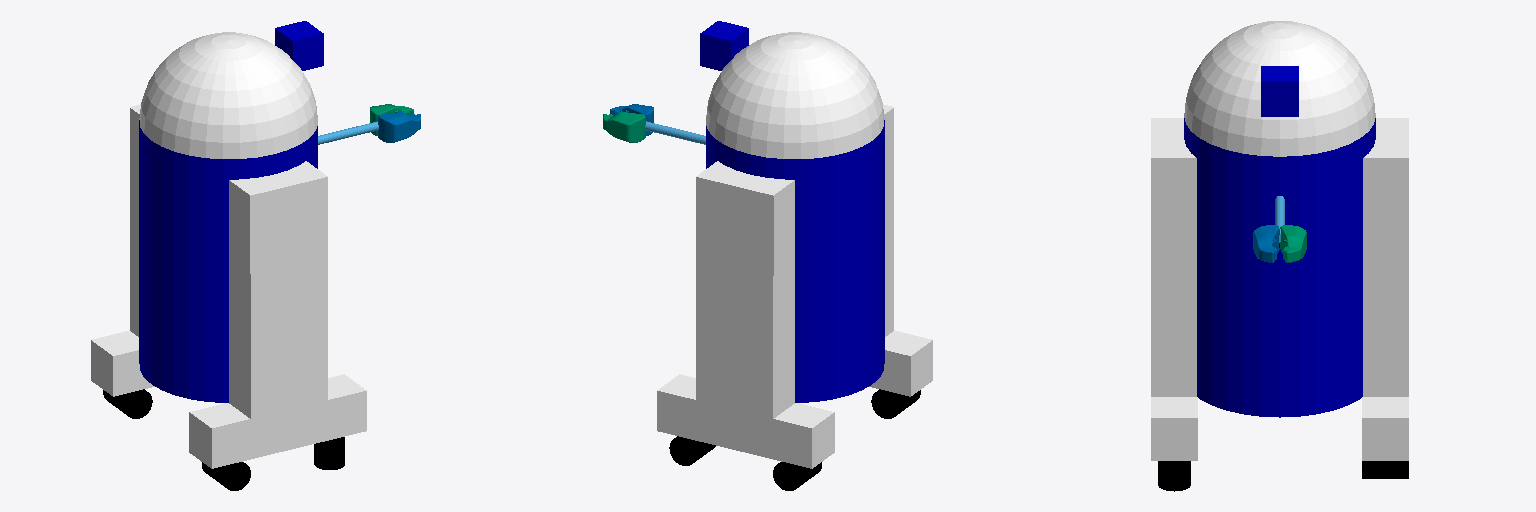
URDF robot description (visual):
<?xml version="1.0"?>
<robot name="visual">

  <material name="blue">
    <color rgba="0 0 0.8 1"/>
  </material>
  <material name="black">
    <color rgba="0 0 0 1"/>
  </material>
  <material name="white">
    <color rgba="1 1 1 1"/>
  </material>

  <link name="base_link">
    <visual>
      <geometry>
        <cylinder length="0.6" radius="0.2"/>
      </geometry>
      <material name="blue"/>
    </visual>
    <collision>
      <geometry>
        <cylinder length="0.6" radius="0.2"/>
      </geometry>
    </collision>
  </link>

  <link name="right_leg">
    <visual>
      <geometry>
        <box size="0.6 0.1 0.2"/>
      </geometry>
      <origin rpy="0 1.57075 0" xyz="0 0 -0.3"/>
      <material name="white"/>
    </visual>
    <collision>
      <geometry>
        <box size="0.6 0.1 0.2"/>
      </geometry>
      <origin rpy="0 1.57075 0" xyz="0 0 -0.3"/>
    </collision>
  </link>

  <joint name="base_to_right_leg" type="fixed">
    <parent link="base_link"/>
    <child link="right_leg"/>
    <origin xyz="0 -0.22 0.25"/>
  </joint>

  <link name="right_base">
    <visual>
      <geometry>
        <box size="0.4 0.1 0.1"/>
      </geometry>
      <material name="white"/>
    </visual>
    <collision>
      <geometry>
        <box size="0.4 0.1 0.1"/>
      </geometry>
    </collision>
  </link>

  <joint name="right_base_joint" type="fixed">
    <parent link="right_leg"/>
    <child link="right_base"/>
    <origin xyz="0 0 -0.6"/>
  </joint>

  <link name="right_front_wheel">
    <visual>
      <origin rpy="1.57075 0 0" xyz="0 0 0"/>
      <geometry>
        <cylinder length="0.1" radius="0.035"/>
      </geometry>
      <material name="black"/>
      <origin rpy="0 0 0" xyz="0 0 0"/>
    </visual>
    <collision>
      <geometry>
        <cylinder length="0.1" radius="0.035"/>
      </geometry>
      <origin rpy="0 0 0" xyz="0 0 0"/>
    </collision>
  </link>
  <joint name="right_front_wheel_joint" type="fixed">
    <parent link="right_base"/>
    <child link="right_front_wheel"/>
    <origin rpy="0 0 0" xyz="0.133333333333 0 -0.085"/>
  </joint>

  <link name="right_back_wheel">
    <visual>
      <origin rpy="1.57075 0 0" xyz="0 0 0"/>
      <geometry>
        <cylinder length="0.1" radius="0.035"/>
      </geometry>
      <material name="black"/>
    </visual>
    <collision>
      <origin rpy="1.57075 0 0" xyz="0 0 0"/>
      <geometry>
        <cylinder length="0.1" radius="0.035"/>
      </geometry>
    </collision>
  </link>
  <joint name="right_back_wheel_joint" type="fixed">
    <parent link="right_base"/>
    <child link="right_back_wheel"/>
    <origin rpy="0 0 0" xyz="-0.133333333333 0 -0.085"/>
  </joint>

  <link name="left_leg">
    <visual>
      <geometry>
        <box size="0.6 0.1 0.2"/>
      </geometry>
      <origin rpy="0 1.57075 0" xyz="0 0 -0.3"/>
      <material name="white"/>
    </visual>
    <collision>
      <geometry>
        <box size="0.6 0.1 0.2"/>
      </geometry>
      <origin rpy="0 1.57075 0" xyz="0 0 -0.3"/>
    </collision>
  </link>

  <joint name="base_to_left_leg" type="fixed">
    <parent link="base_link"/>
    <child link="left_leg"/>
    <origin xyz="0 0.22 0.25"/>
  </joint>

  <link name="left_base">
    <visual>
      <geometry>
        <box size="0.4 0.1 0.1"/>
      </geometry>
      <material name="white"/>
    </visual>
    <collision>
      <geometry>
        <box size="0.4 0.1 0.1"/>
      </geometry>
    </collision>
  </link>

  <joint name="left_base_joint" type="fixed">
    <parent link="left_leg"/>
    <child link="left_base"/>
    <origin xyz="0 0 -0.6"/>
  </joint>

  <link name="left_front_wheel">
    <visual>
      <origin rpy="1.57075 0 0" xyz="0 0 0"/>
      <geometry>
        <cylinder length="0.1" radius="0.035"/>
      </geometry>
      <material name="black"/>
    </visual>
    <collision>
      <origin rpy="1.57075 0 0" xyz="0 0 0"/>
      <geometry>
        <cylinder length="0.1" radius="0.035"/>
      </geometry>
    </collision>
  </link>
  <joint name="left_front_wheel_joint" type="fixed">
    <parent link="left_base"/>
    <child link="left_front_wheel"/>
    <origin rpy="0 0 0" xyz="0.133333333333 0 -0.085"/>
  </joint>

  <link name="left_back_wheel">
    <visual>
      <origin rpy="1.57075 0 0" xyz="0 0 0"/>
      <geometry>
        <cylinder length="0.1" radius="0.035"/>
      </geometry>
      <material name="black"/>
    </visual>
    <collision>
      <origin rpy="1.57075 0 0" xyz="0 0 0"/>
      <geometry>
        <cylinder length="0.1" radius="0.035"/>
      </geometry>
    </collision>
  </link>
  <joint name="left_back_wheel_joint" type="fixed">
    <parent link="left_base"/>
    <child link="left_back_wheel"/>
    <origin rpy="0 0 0" xyz="-0.133333333333 0 -0.085"/>
  </joint>

  <joint name="gripper_extension" type="fixed">
    <parent link="base_link"/>
    <child link="gripper_pole"/>
    <origin rpy="0 0 0" xyz="0.19 0 0.2"/>
  </joint>

  <link name="gripper_pole">
    <visual>
      <geometry>
        <cylinder length="0.2" radius="0.01"/>
      </geometry>
      <origin rpy="0 1.57075 0 " xyz="0.1 0 0"/>
    </visual>
    <collision>
      <geometry>
        <cylinder length="0.2" radius="0.01"/>
      </geometry>
      <origin rpy="0 1.57075 0 " xyz="0.1 0 0"/>
    </collision>
  </link>

  <joint name="left_gripper_joint" type="fixed">
    <origin rpy="0 0 0" xyz="0.2 0.01 0"/>
    <parent link="gripper_pole"/>
    <child link="left_gripper"/>
  </joint>

  <link name="left_gripper">
    <visual>
      <origin rpy="0.0 0 0" xyz="0 0 0"/>
      <geometry>
        <mesh filename="l_finger.dae"/>
      </geometry>
    </visual>
    <collision>
      <origin rpy="0.0 0 0" xyz="0 0 0"/>
      <geometry>
        <mesh filename="l_finger.dae"/>
      </geometry>
    </collision>
  </link>

  <joint name="left_tip_joint" type="fixed">
    <parent link="left_gripper"/>
    <child link="left_tip"/>
  </joint>

  <link name="left_tip">
    <visual>
      <origin rpy="0.0 0 0" xyz="0.09137 0.00495 0"/>
      <geometry>
        <mesh filename="l_finger_tip.dae"/>
      </geometry>
    </visual>
    <collision>
      <origin rpy="0.0 0 0" xyz="0.09137 0.00495 0"/>
      <geometry>
        <mesh filename="l_finger_tip.dae"/>
      </geometry>
    </collision>
  </link>
  <joint name="right_gripper_joint" type="fixed">
    <origin rpy="0 0 0" xyz="0.2 -0.01 0"/>
    <parent link="gripper_pole"/>
    <child link="right_gripper"/>
  </joint>

  <link name="right_gripper">
    <visual>
      <origin rpy="-3.1415 0 0" xyz="0 0 0"/>
      <geometry>
        <mesh filename="l_finger.dae"/>
      </geometry>
    </visual>
    <collision>
      <origin rpy="-3.1415 0 0" xyz="0 0 0"/>
      <geometry>
        <mesh filename="l_finger.dae"/>
      </geometry>
    </collision>
  </link>

  <joint name="right_tip_joint" type="fixed">
    <parent link="right_gripper"/>
    <child link="right_tip"/>
  </joint>

  <link name="right_tip">
    <visual>
      <origin rpy="-3.1415 0 0" xyz="0.09137 0.00495 0"/>
      <geometry>
        <mesh filename="l_finger_tip.dae"/>
      </geometry>
    </visual>
    <collision>
      <origin rpy="-3.1415 0 0" xyz="0.09137 0.00495 0"/>
      <geometry>
        <mesh filename="l_finger_tip.dae"/>
      </geometry>
    </collision>
  </link>

  <link name="head">
    <visual>
      <geometry>
        <sphere radius="0.2"/>
      </geometry>
      <material name="white"/>
    </visual>
    <collision>
      <geometry>
        <sphere radius="0.2"/>
      </geometry>
    </collision>
  </link>
  <joint name="head_swivel" type="fixed">
    <parent link="base_link"/>
    <child link="head"/>
    <origin xyz="0 0 0.3"/>
  </joint>

  <link name="box">
    <visual>
      <geometry>
        <box size="0.08 0.08 0.08"/>
      </geometry>
      <material name="blue"/>
    </visual>
    <collision>
      <geometry>
        <box size="0.08 0.08 0.08"/>
      </geometry>
    </collision>
  </link>

  <joint name="tobox" type="fixed">
    <parent link="head"/>
    <child link="box"/>
    <origin xyz="0.1814 0 0.1414"/>
  </joint>
</robot>

--- Render facts (derived) ---
3 views of the same robot in one strip: view 1: azimuth 30°, elevation 25°; view 2: azimuth 150°, elevation 25°; view 3: azimuth 270°, elevation 25° (orthographic).
Robot: visual — 16 links, 15 joints (15 fixed); root link base_link; default pose: all joints at 0.
Links seen in each view (by area): view 1: base_link, right_leg, head, right_base, left_base, left_leg, box, right_gripper, left_back_wheel, right_back_wheel, right_front_wheel, gripper_pole; view 2: left_leg, base_link, head, left_base, right_base, right_leg, box, left_gripper, right_back_wheel, left_back_wheel, left_front_wheel, gripper_pole; view 3: base_link, head, right_leg, left_leg, right_base, left_base, box, right_front_wheel, left_gripper, right_gripper, left_front_wheel.
Boxes of the visible links, bbox=[...] form: base_link: bbox=[139, 120, 317, 402]; right_leg: bbox=[229, 161, 327, 438]; head: bbox=[139, 32, 317, 158]; right_base: bbox=[189, 374, 366, 468]; left_base: bbox=[91, 330, 154, 396]; left_leg: bbox=[130, 104, 140, 336]; box: bbox=[275, 21, 323, 70]; right_gripper: bbox=[378, 112, 420, 142]; left_back_wheel: bbox=[103, 389, 152, 418]; right_back_wheel: bbox=[202, 462, 250, 490]; right_front_wheel: bbox=[314, 437, 344, 469]; gripper_pole: bbox=[318, 121, 378, 144]; left_leg: bbox=[696, 161, 794, 438]; base_link: bbox=[706, 120, 884, 402]; head: bbox=[706, 32, 884, 158]; left_base: bbox=[657, 374, 834, 468]; right_base: bbox=[869, 330, 932, 396]; right_leg: bbox=[883, 104, 893, 336]; box: bbox=[700, 21, 748, 70]; left_gripper: bbox=[603, 112, 645, 142]; right_back_wheel: bbox=[871, 389, 920, 418]; left_back_wheel: bbox=[773, 462, 821, 490]; left_front_wheel: bbox=[669, 436, 715, 465]; gripper_pole: bbox=[645, 121, 705, 144]; base_link: bbox=[1184, 118, 1375, 417]; head: bbox=[1184, 21, 1375, 156]; right_leg: bbox=[1151, 118, 1196, 396]; left_leg: bbox=[1363, 118, 1408, 396]; right_base: bbox=[1151, 397, 1197, 460]; left_base: bbox=[1362, 397, 1408, 460]; box: bbox=[1261, 66, 1298, 116]; right_front_wheel: bbox=[1158, 461, 1190, 491]; left_gripper: bbox=[1280, 225, 1306, 262]; right_gripper: bbox=[1253, 225, 1279, 262]; left_front_wheel: bbox=[1362, 461, 1408, 478].
Size in the robot's own frame: 0.6854 by 0.54 by 0.985 metres.
Meshes: 2 distinct files referenced, 2 mesh visuals loaded (1 Collada DAE); not drawn: 2 (reference not matched to a file when rendering).